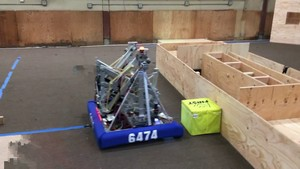cube: (182, 96, 222, 137)
